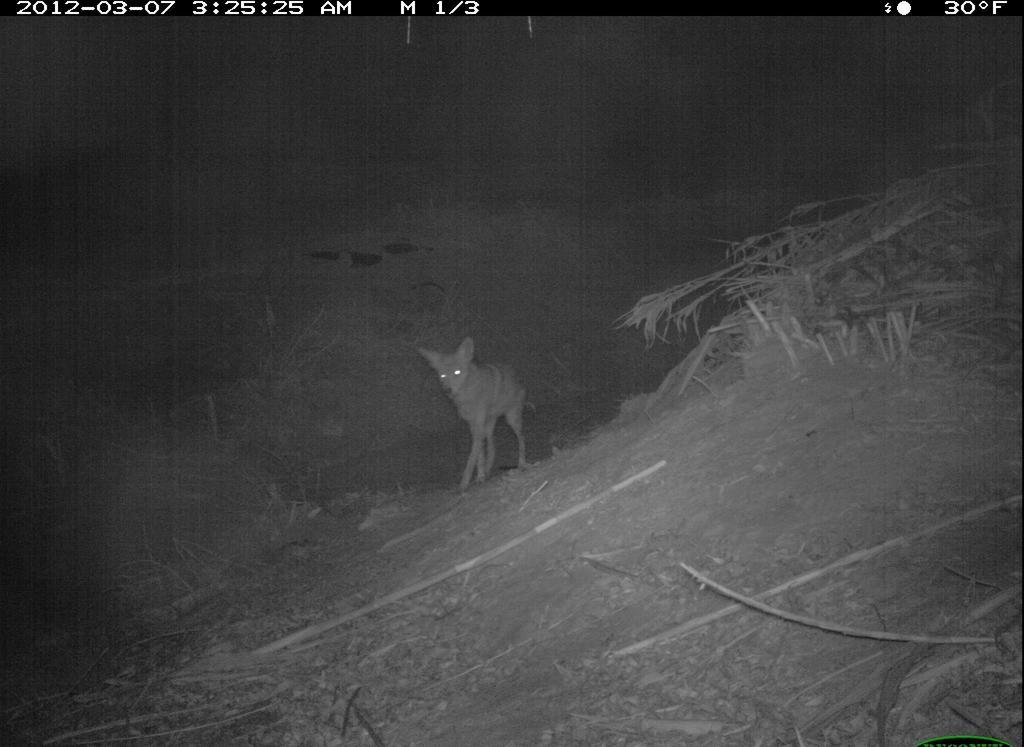coyote: (411, 324, 543, 500)
